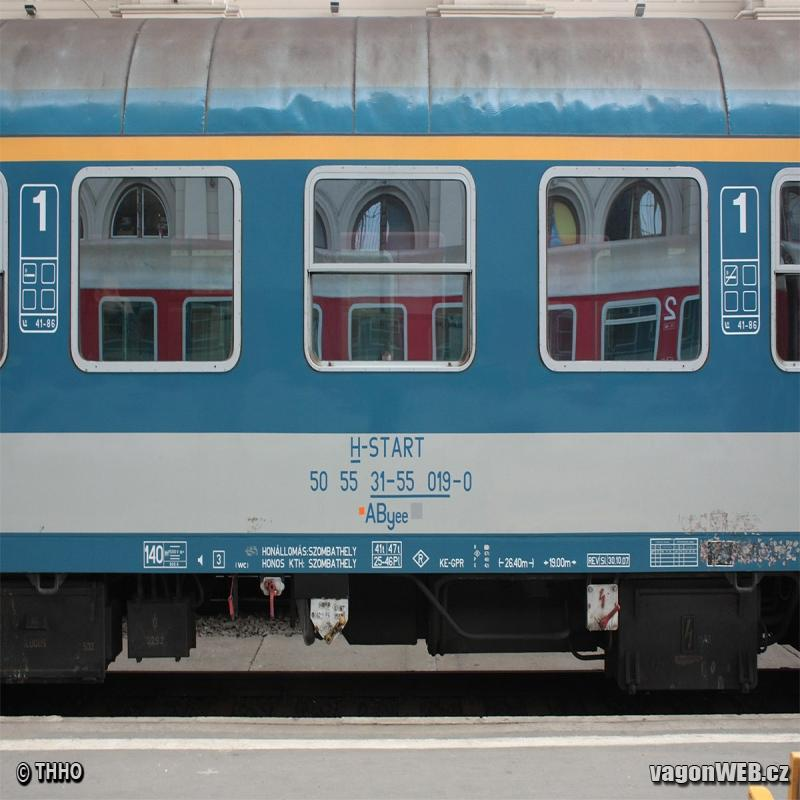train: (2, 20, 800, 683)
